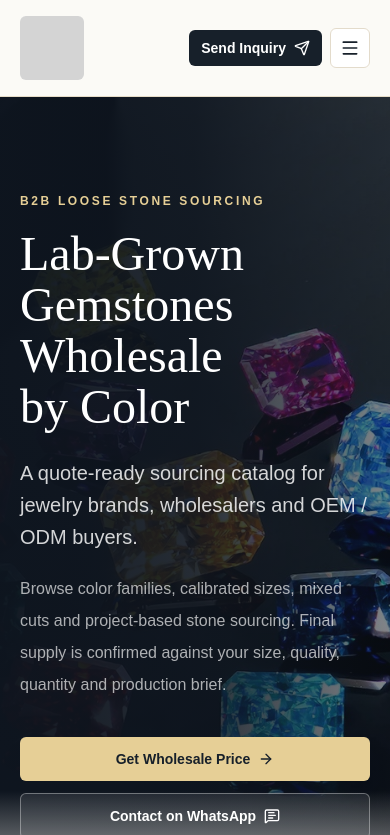
Test case: GemstoneCatalogPage › renders a premium English B2B catalog with reference pricing and payment guidance
Expected: the heading "Lab-Grown Gemstones Wholesale by Color" is shown, x1=20 y1=227 x2=244 y2=433
Click the button named "Open navigation menu". click: (350, 48)
box: x1=330 y1=28 x2=370 y2=68
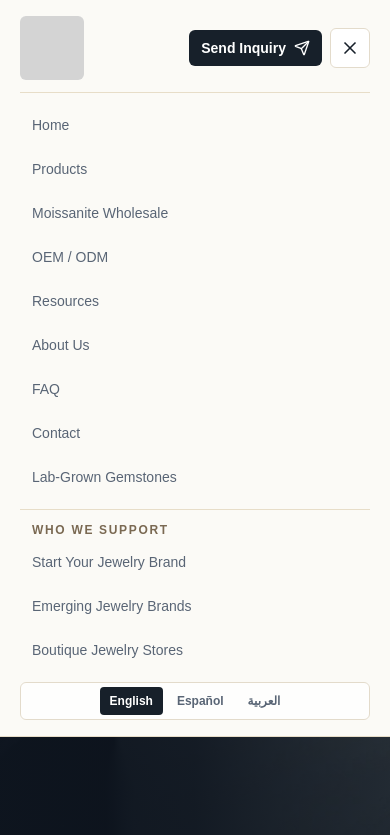
Expected: the number of elements "Language switcher" is 2
